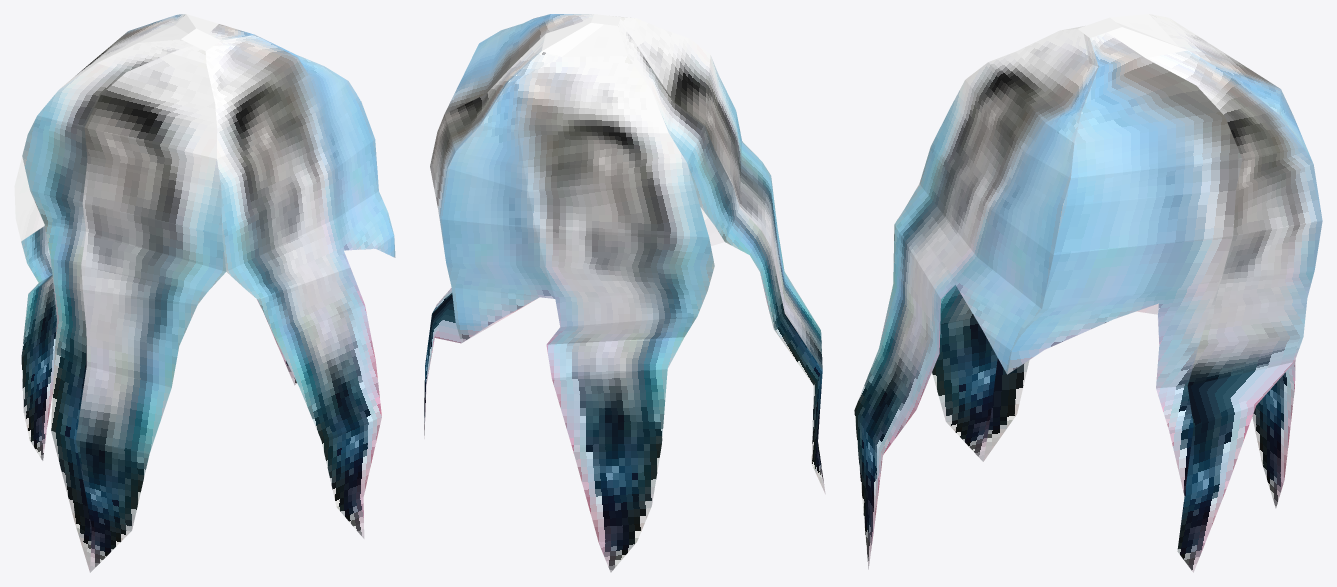
3 views of the same model, side by side, from view 1: azimuth 30°, elevation 25°; view 2: azimuth 150°, elevation 25°; view 3: azimuth 270°, elevation 25° (orthographic). The views are drawn at different scales.
Visible parts, largest first — view 1: SPLICE_1.004; view 2: SPLICE_1.004; view 3: SPLICE_1.004.
Boxes of the visible parts, x1,y1,x2,y2 form: SPLICE_1.004: (14,14,395,572); SPLICE_1.004: (424,14,825,572); SPLICE_1.004: (854,14,1322,572).
Size of the model in its own units: 0.9117 by 1.22 by 0.9727.
1 material, 1 textured.
